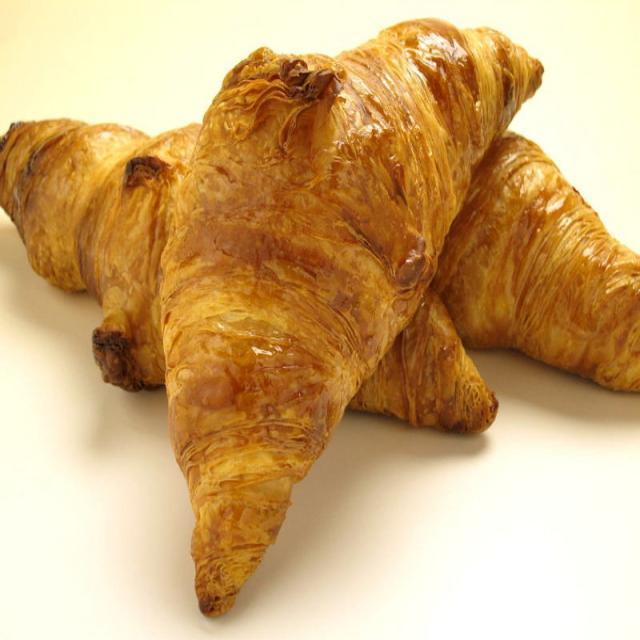Croissant: (145, 11, 548, 624)
